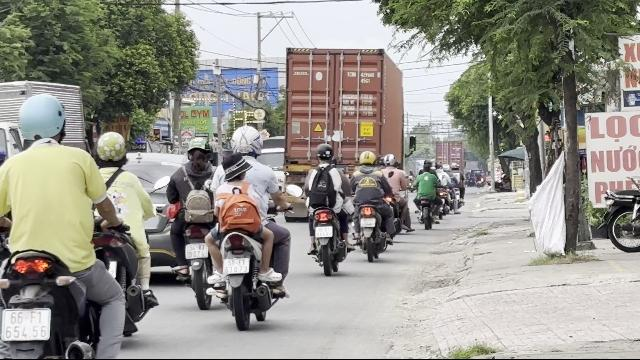helmet: (16, 93, 68, 147), (228, 124, 262, 158), (95, 131, 127, 165), (185, 136, 211, 162), (314, 143, 334, 163)
licenseplate: (1, 309, 49, 339), (223, 258, 249, 274), (186, 243, 208, 258), (316, 227, 332, 237)
motorcyclist: (0, 93, 140, 356), (206, 120, 292, 329), (93, 128, 161, 336), (167, 131, 220, 306), (302, 142, 352, 274)
nohelmet: (218, 155, 252, 183)
